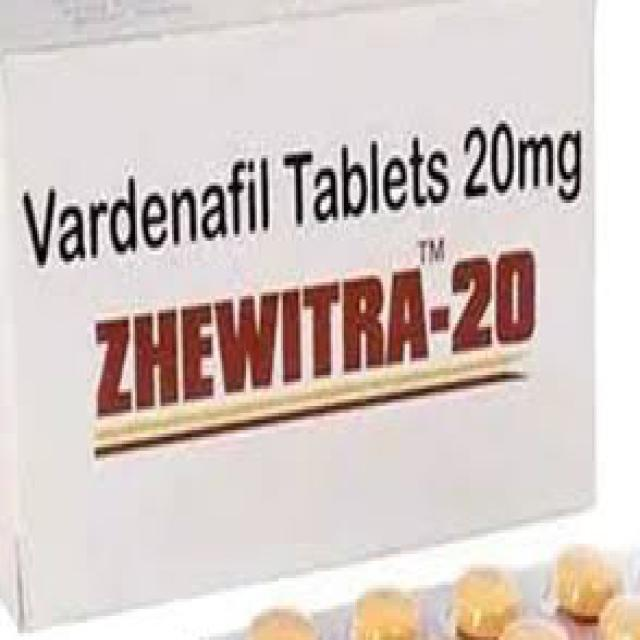drug-name: (91, 244, 546, 423)
